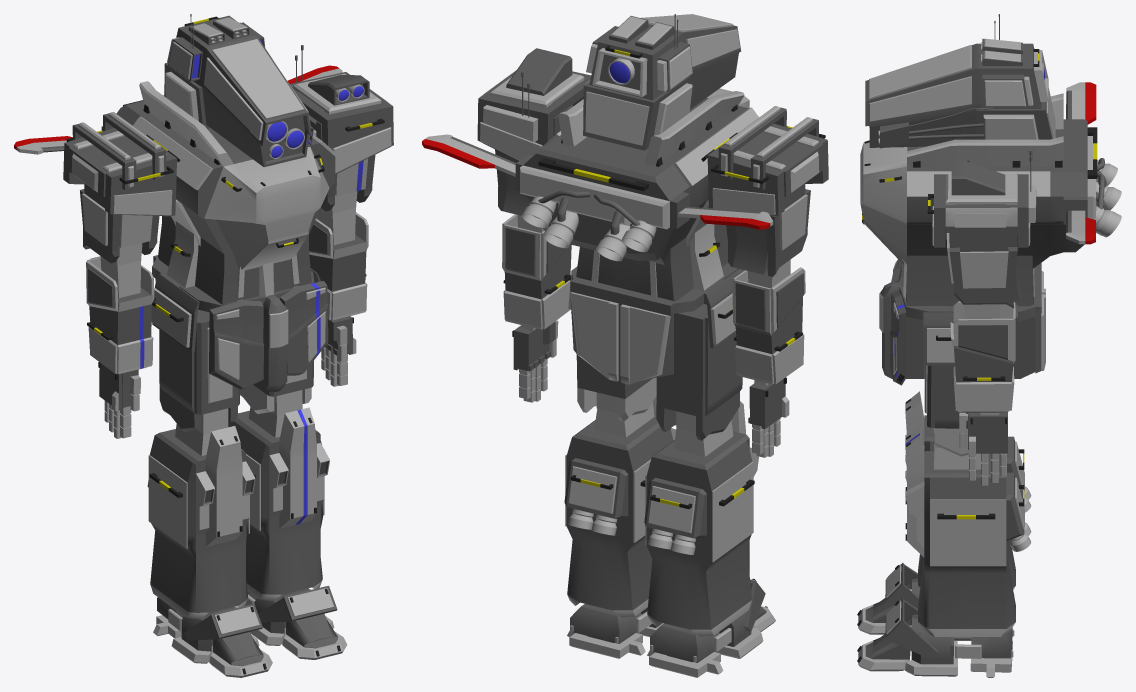
The model's file is Dash_MISCU_Scale_Test.fbx.
3 views of the same model, side by side, from view 1: azimuth 30°, elevation 25°; view 2: azimuth 150°, elevation 25°; view 3: azimuth 270°, elevation 25° (orthographic). The views are drawn at different scales.
Parts seen in each view (by area): view 1: DASH_MISCU_Frame_MayaASCII1:polySurface36, DASH_MISCU_Frame_MayaASCII:LowerRightLeg, DASH_MISCU_Frame_MayaASCII:Head1, DASH_MISCU_Frame_MayaASCII:LowerLeftLeg, DASH_MISCU_Frame_MayaASCII:RightShoulder, DASH_MISCU_Frame_MayaASCII:LoweRightArm, DASH_MISCU_Frame_MayaASCII:LowerChest, DASH_MISCU_Frame_MayaASCII:LeftShoulder, DASH_MISCU_Frame_MayaASCII:UpperRightLeg, DASH_MISCU_Frame_MayaASCII:Waist2, DASH_MISCU_Frame_MayaASCII:LowerLeftHand, DASH_MISCU_Frame_MayaASCII:RightWaistSkirt (+10 smaller); view 2: DASH_MISCU_Frame_MayaASCII1:polySurface36, DASH_MISCU_Frame_MayaASCII:LowerRightLeg, DASH_MISCU_Frame_MayaASCII:LowerLeftLeg, DASH_MISCU_Frame_MayaASCII:Head1, DASH_MISCU_Frame_MayaASCII:Waist2, DASH_MISCU_Frame_MayaASCII:RightShoulder, DASH_MISCU_Frame_MayaASCII:LeftShoulder, DASH_MISCU_Frame_MayaASCII:UpperRightLeg, DASH_MISCU_Frame_MayaASCII:LoweRightArm, DASH_MISCU_Frame_MayaASCII:LowerLeftHand, DASH_MISCU_Frame_MayaASCII:LowerChest, DASH_MISCU_Frame_MayaASCII:RightFoot (+7 smaller); view 3: DASH_MISCU_Frame_MayaASCII1:polySurface36, DASH_MISCU_Frame_MayaASCII:LowerLeftLeg, DASH_MISCU_Frame_MayaASCII:Head1, DASH_MISCU_Frame_MayaASCII:LowerLeftHand, DASH_MISCU_Frame_MayaASCII:LeftShoulder, DASH_MISCU_Frame_MayaASCII:Waist2, DASH_MISCU_Frame_MayaASCII:UpperLeftarm, DASH_MISCU_Frame_MayaASCII:LeftFoot, DASH_MISCU_Frame_MayaASCII:LowerChest, DASH_MISCU_Frame_MayaASCII:LeftToe, DASH_MISCU_Frame_MayaASCII:LeftHand, DASH_MISCU_Frame_MayaASCII:UpperLeftleg (+3 smaller).
Part boxes in pixels (x1,y1,x2,y2): DASH_MISCU_Frame_MayaASCII1:polySurface36: (14,65,342,270); DASH_MISCU_Frame_MayaASCII:LowerRightLeg: (147,424,255,619); DASH_MISCU_Frame_MayaASCII:Head1: (164,14,313,167); DASH_MISCU_Frame_MayaASCII:LowerLeftLeg: (228,407,329,600); DASH_MISCU_Frame_MayaASCII:RightShoulder: (63,112,176,216); DASH_MISCU_Frame_MayaASCII:LoweRightArm: (86,256,154,374); DASH_MISCU_Frame_MayaASCII:LowerChest: (158,216,311,304); DASH_MISCU_Frame_MayaASCII:LeftShoulder: (289,45,393,174); DASH_MISCU_Frame_MayaASCII:UpperRightLeg: (159,309,239,434); DASH_MISCU_Frame_MayaASCII:Waist2: (151,255,320,391); DASH_MISCU_Frame_MayaASCII:LowerLeftHand: (309,208,368,320); DASH_MISCU_Frame_MayaASCII:RightWaistSkirt: (209,300,263,389); DASH_MISCU_Frame_MayaASCII1:polySurface36: (422,88,773,264); DASH_MISCU_Frame_MayaASCII:LowerRightLeg: (644,401,758,636); DASH_MISCU_Frame_MayaASCII:LowerLeftLeg: (564,396,675,617); DASH_MISCU_Frame_MayaASCII:Head1: (583,14,741,150); DASH_MISCU_Frame_MayaASCII:Waist2: (568,263,744,384); DASH_MISCU_Frame_MayaASCII:RightShoulder: (707,106,828,215); DASH_MISCU_Frame_MayaASCII:LeftShoulder: (477,48,591,161); DASH_MISCU_Frame_MayaASCII:UpperRightLeg: (656,304,742,440); DASH_MISCU_Frame_MayaASCII:LoweRightArm: (732,259,805,384); DASH_MISCU_Frame_MayaASCII:LowerLeftHand: (502,214,571,329); DASH_MISCU_Frame_MayaASCII:LowerChest: (576,224,727,301); DASH_MISCU_Frame_MayaASCII:RightFoot: (647,612,763,677); DASH_MISCU_Frame_MayaASCII1:polySurface36: (860,82,1121,268); DASH_MISCU_Frame_MayaASCII:LowerLeftLeg: (905,427,1031,636); DASH_MISCU_Frame_MayaASCII:Head1: (865,14,1055,148); DASH_MISCU_Frame_MayaASCII:LowerLeftHand: (950,301,1017,412); DASH_MISCU_Frame_MayaASCII:LeftShoulder: (927,150,1036,247); DASH_MISCU_Frame_MayaASCII:Waist2: (879,263,1045,378); DASH_MISCU_Frame_MayaASCII:UpperLeftarm: (946,226,1020,308); DASH_MISCU_Frame_MayaASCII:LeftFoot: (905,614,1014,677); DASH_MISCU_Frame_MayaASCII:LowerChest: (901,255,1034,306); DASH_MISCU_Frame_MayaASCII:LeftToe: (857,599,937,671); DASH_MISCU_Frame_MayaASCII:LeftHand: (959,412,1007,485); DASH_MISCU_Frame_MayaASCII:UpperLeftleg: (924,365,968,456).
Size of the model in its own units: 6.83 by 12.35 by 4.82.
